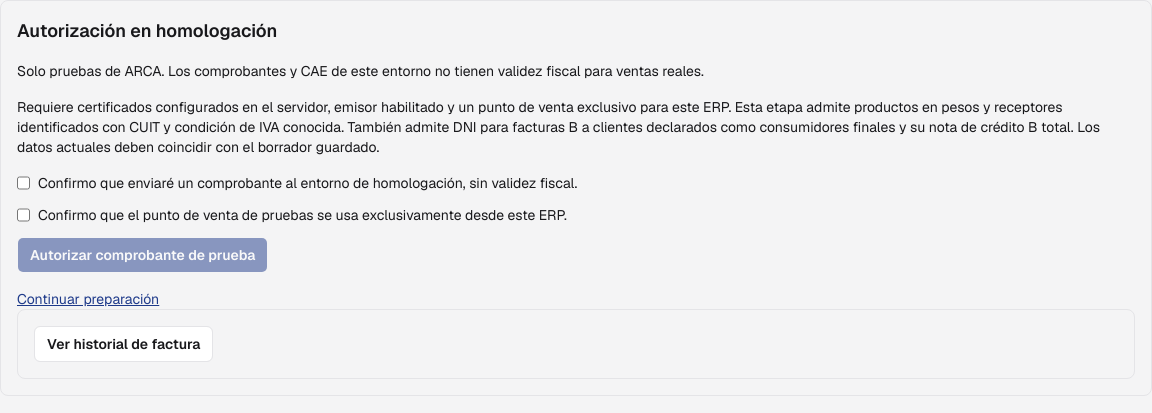
Test: blocks resend and requires reloading after a network error
The image size is (1152, 413).
Click the 1st checkbox: (24, 183) [17,173,30,193]
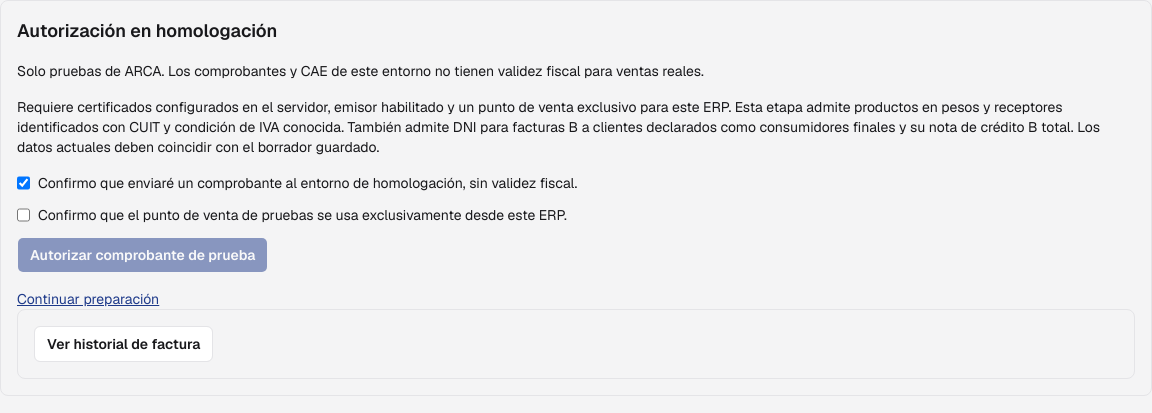
Click the 2nd checkbox: (24, 215) [17,205,30,225]
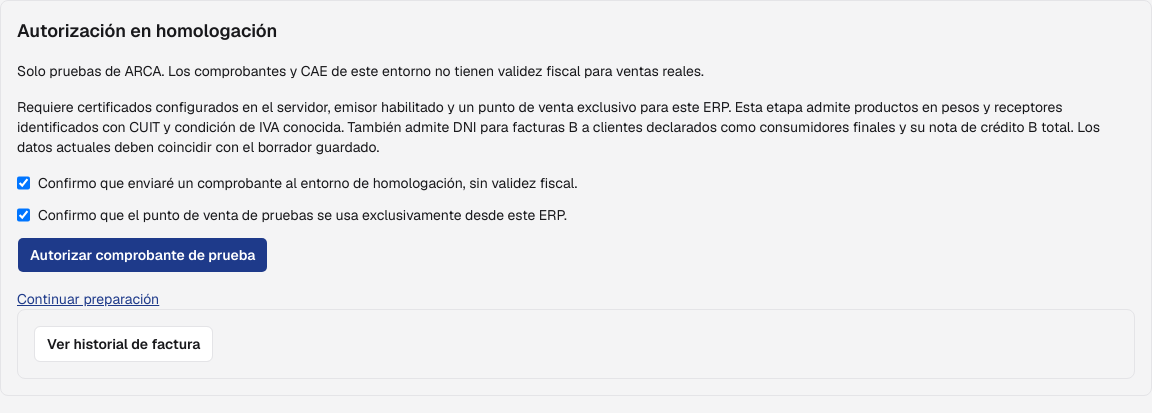
Click the button "Autorizar comprobante de prueba": (143, 255) [17,237,268,273]
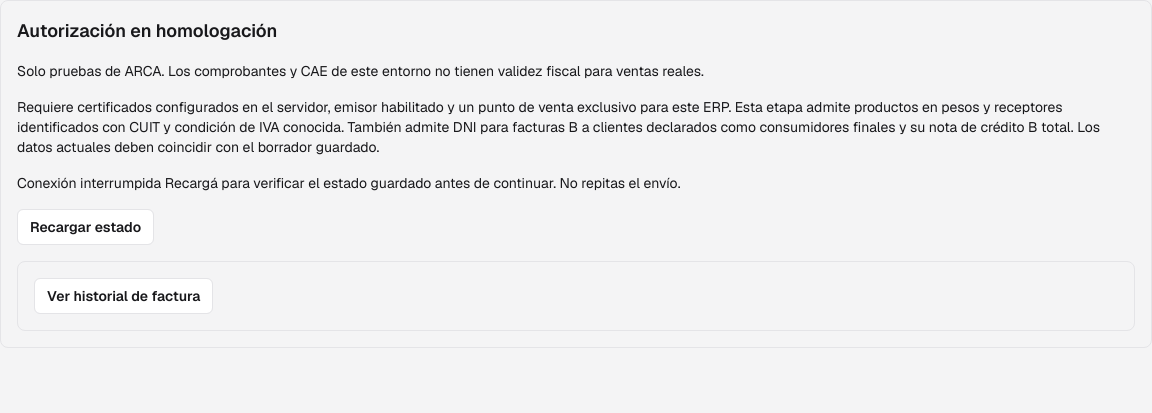
Check: the message is shown, box [17,174,680,192]
Check: the checkbox is gone
Check: the button "Recargar estado" is shown, box [17,209,154,245]
